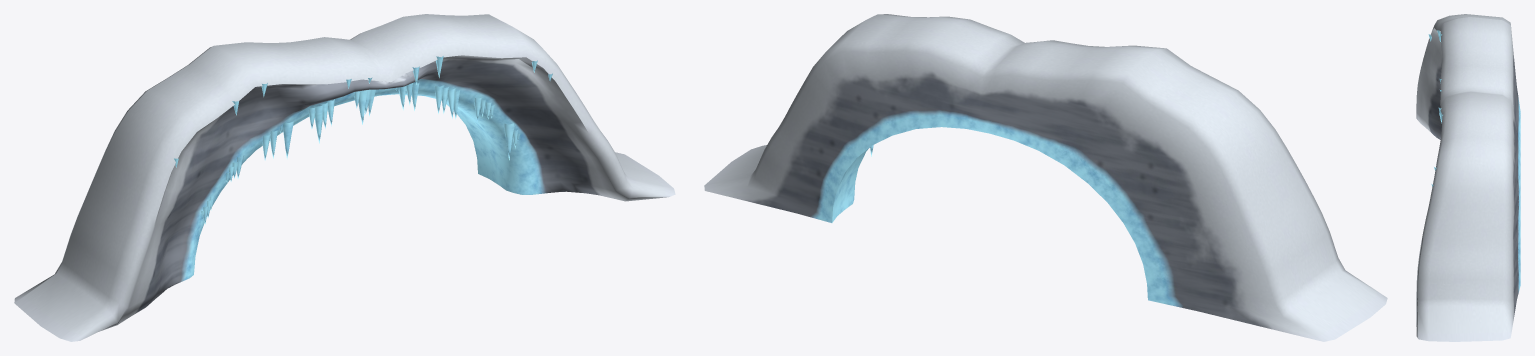
Rendered from SM_IceCave_Exit.glb.
The picture shows the model from 3 angles, left to right: view 1: azimuth 30°, elevation 25°; view 2: azimuth 150°, elevation 25°; view 3: azimuth 270°, elevation 25°; orthographic projection. The views are drawn at different scales.
Visible parts, largest first — view 1: SM_IceCave_Exit; view 2: SM_IceCave_Exit; view 3: SM_IceCave_Exit.
Part boxes in pixels (left/top/right/bottom): SM_IceCave_Exit: left=14, top=14, right=675, bottom=341; SM_IceCave_Exit: left=704, top=14, right=1387, bottom=341; SM_IceCave_Exit: left=1416, top=14, right=1520, bottom=341.
Size of the model in its own units: 32.36 by 10.65 by 6.05.
Materials: 1 (1 with a texture image).
